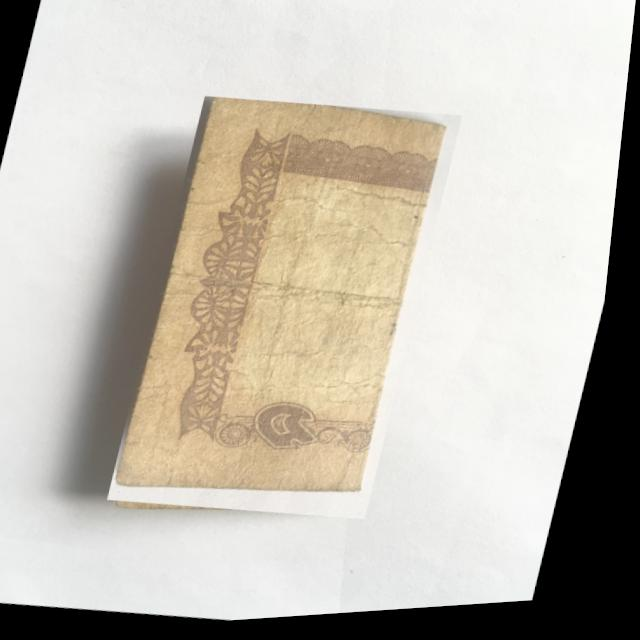Taka: (115, 86, 468, 539)
